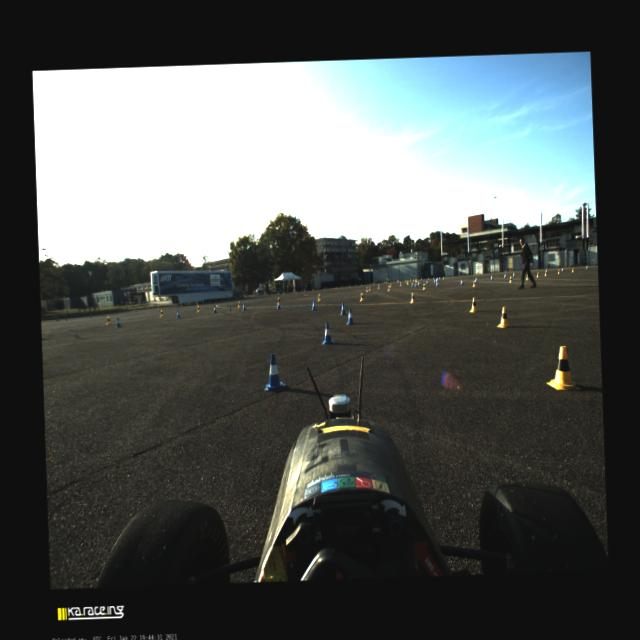blue_cone: (262, 353, 286, 391), (320, 322, 334, 344), (346, 308, 354, 324), (339, 302, 346, 314), (115, 317, 122, 327), (311, 300, 316, 310), (276, 300, 281, 309), (176, 310, 180, 318), (212, 304, 216, 312), (242, 302, 246, 310), (414, 282, 417, 287), (474, 277, 477, 282), (504, 272, 506, 278), (418, 280, 420, 286), (490, 275, 492, 280), (460, 279, 462, 284), (56, 316, 58, 321), (586, 264, 588, 268), (561, 267, 563, 271), (436, 282, 438, 286), (411, 282, 413, 286), (426, 280, 428, 284), (442, 276, 444, 280), (512, 272, 514, 276), (433, 279, 435, 283), (435, 278, 437, 282), (436, 276, 438, 280), (135, 308, 137, 312), (89, 314, 91, 318), (174, 304, 176, 307), (41, 336, 43, 339), (433, 276, 434, 280), (248, 296, 250, 298), (438, 276, 439, 279), (421, 277, 422, 280), (355, 283, 356, 286), (206, 300, 207, 303), (227, 298, 228, 300), (326, 286, 327, 288), (278, 292, 279, 294), (263, 294, 264, 296), (242, 296, 243, 298), (428, 276, 428, 278), (370, 282, 370, 284), (342, 284, 342, 286)
large_orange_cone: (304, 287, 306, 292), (292, 288, 294, 293)
yellow_cone: (545, 344, 580, 390), (496, 306, 512, 328), (468, 296, 477, 312), (358, 292, 364, 301), (316, 292, 321, 302), (158, 309, 164, 317), (410, 293, 414, 303), (106, 316, 110, 324), (237, 300, 241, 308), (422, 283, 426, 290), (196, 305, 200, 312), (472, 280, 476, 286), (508, 276, 512, 282), (556, 268, 560, 274), (544, 269, 547, 276), (387, 284, 390, 290), (278, 296, 280, 304), (399, 281, 402, 286), (571, 267, 574, 272), (64, 316, 67, 321), (366, 286, 368, 292), (526, 274, 528, 280), (536, 272, 538, 278), (378, 284, 380, 289), (157, 305, 159, 310), (406, 280, 408, 285), (389, 282, 391, 287), (102, 312, 104, 316), (196, 302, 198, 306), (404, 278, 406, 282), (414, 278, 416, 282), (368, 286, 370, 290), (282, 292, 284, 294), (361, 282, 362, 286), (237, 297, 238, 300), (295, 290, 296, 293), (412, 278, 413, 281), (348, 284, 349, 286), (397, 280, 398, 282), (253, 296, 254, 298), (312, 288, 313, 290), (372, 282, 373, 284), (384, 280, 385, 282), (386, 280, 387, 282), (222, 298, 222, 302), (324, 286, 324, 290), (410, 278, 410, 282), (336, 286, 336, 288)
